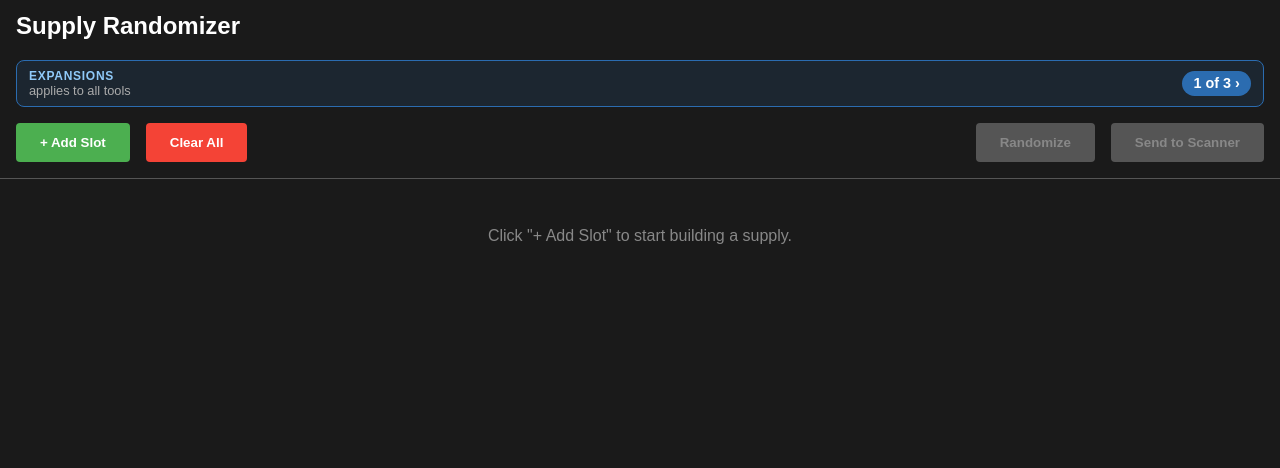
it: SupplyRandomizerScreen › restricts the live match count to the Expansions setting
The image size is (1280, 468).
Expected: the button with aria-label "Expansions: 1 of 3 selected" is shown, 16,60 -> 1264,107
Click the button "+ Add Slot" at (73, 142), box 16,123 -> 130,162
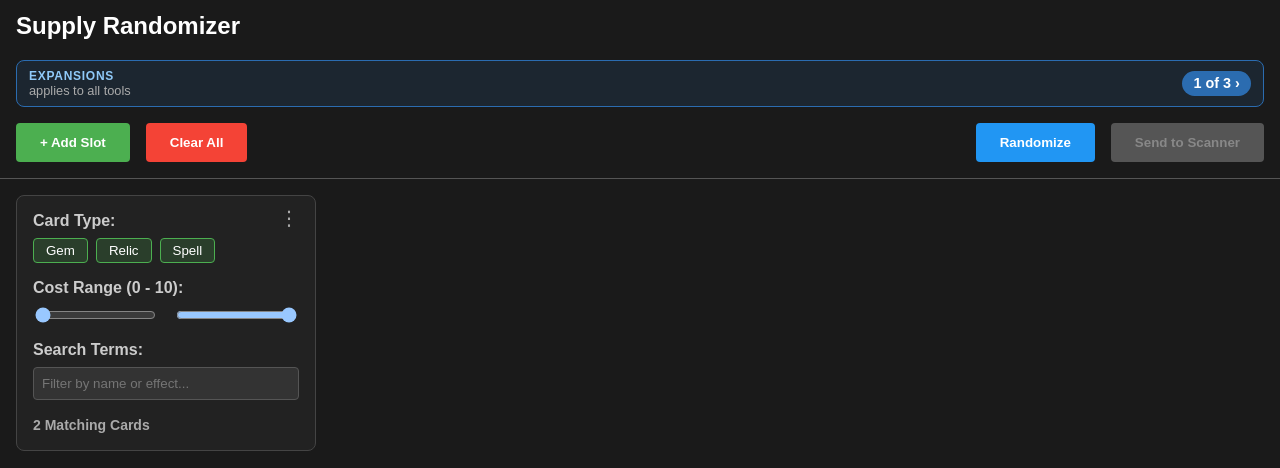
Result: the text "2 Matching Cards" is shown at 33,417 -> 150,433
